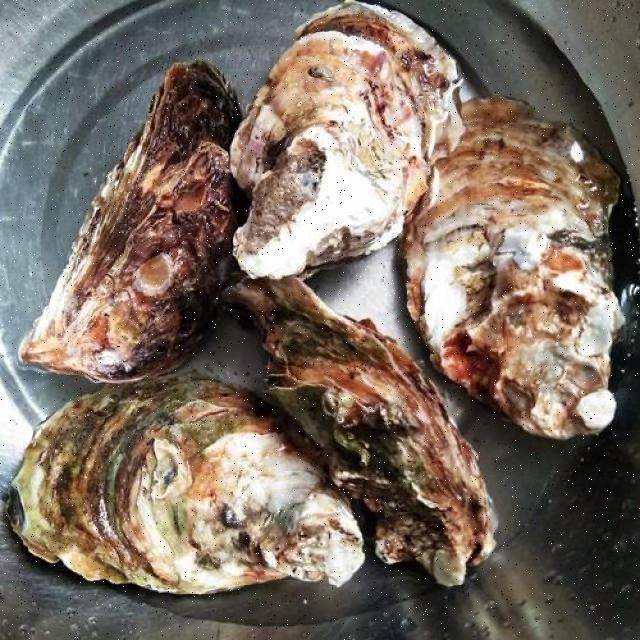Oyster-Closed: (228, 274, 496, 586), (403, 91, 640, 443), (5, 379, 368, 597), (20, 60, 236, 382), (228, 4, 464, 278)
